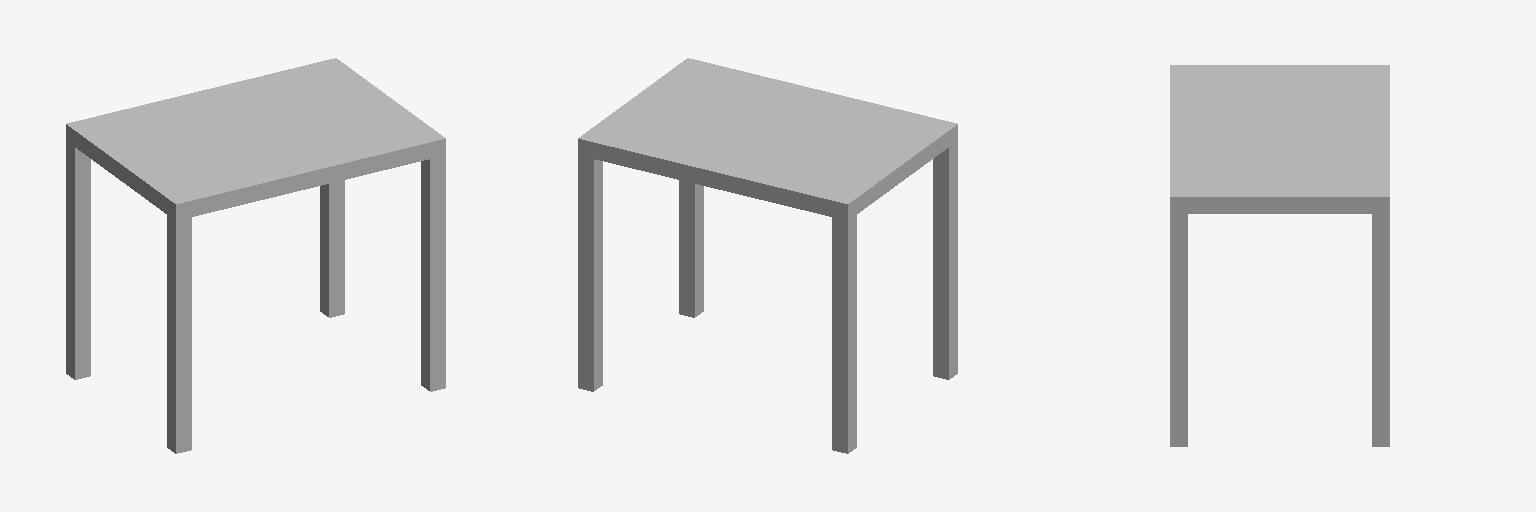
Rendered from Scholar Desk.obj.
3 views of the same model, side by side, from view 1: azimuth 30°, elevation 25°; view 2: azimuth 150°, elevation 25°; view 3: azimuth 270°, elevation 25° (orthographic).
Parts seen in each view (by area): view 1: Scholar Desk2; view 2: Scholar Desk2; view 3: Scholar Desk2.
Part boxes in pixels (bbox=[...]): Scholar Desk2: bbox=[66, 58, 445, 453]; Scholar Desk2: bbox=[578, 58, 957, 453]; Scholar Desk2: bbox=[1170, 65, 1389, 446].
Size of the model in its own units: 68 by 60 by 48.